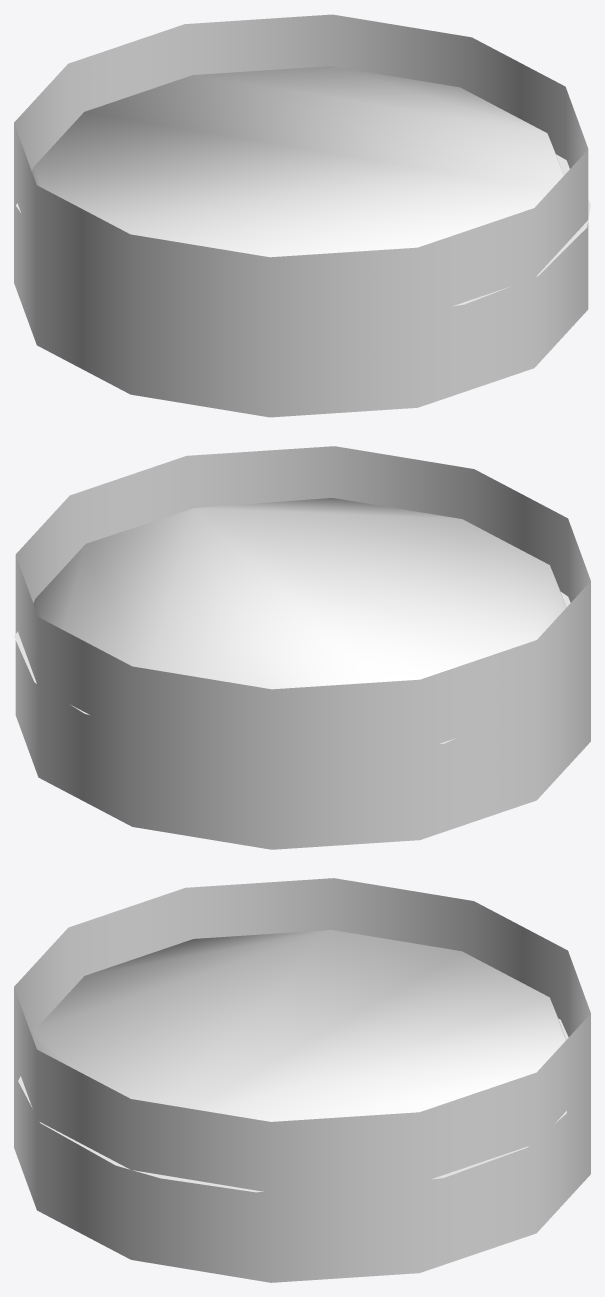
The model's file is PiratesSkyDome.fbx.
3 views of the same model, one above another, from view 1: azimuth 30°, elevation 25°; view 2: azimuth 150°, elevation 25°; view 3: azimuth 270°, elevation 25° (orthographic).
Visible parts, largest first — view 1: Sides, Top, CloudsTop; view 2: Sides, Top; view 3: Sides, Top, CloudsTop.
Boxes of the visible parts, <box> form: Sides: <box>14,14,588,417</box>; Top: <box>32,66,563,257</box>; CloudsTop: <box>16,154,590,306</box>; Sides: <box>15,446,590,849</box>; Top: <box>33,498,566,689</box>; Sides: <box>14,878,590,1282</box>; Top: <box>32,930,566,1121</box>; CloudsTop: <box>18,1018,568,1192</box>.
Size of the model in its own units: 473510 by 150858 by 473509.
Materials: 1 (1 with a texture image).
